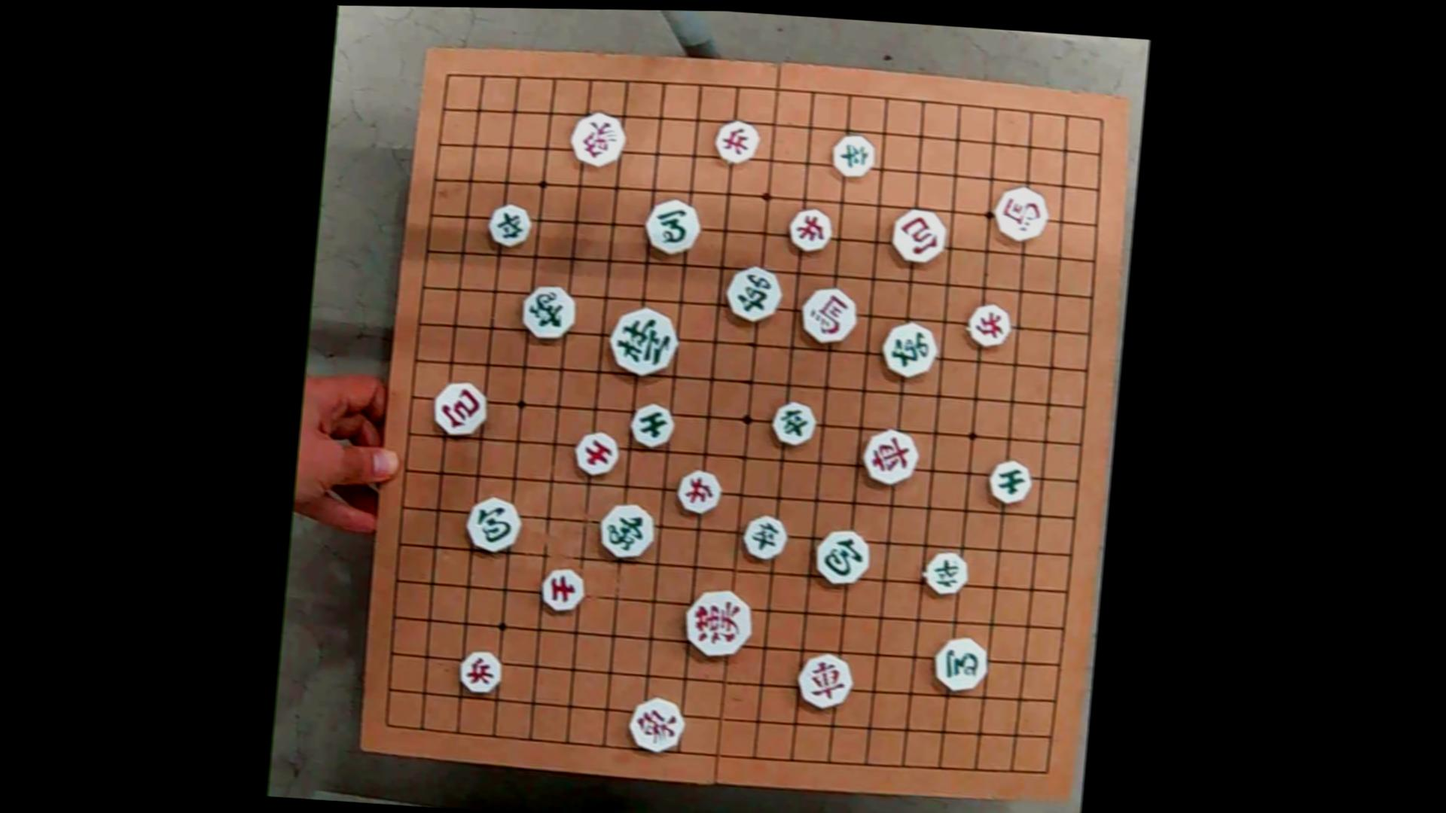cha_green: (877, 321, 937, 379), (725, 265, 781, 324)
cha_red: (795, 653, 853, 709), (862, 430, 916, 487)
jol_green: (742, 513, 786, 564), (923, 549, 969, 597), (770, 399, 816, 446), (484, 202, 531, 248), (830, 132, 874, 180)
jol_red: (673, 467, 722, 516), (712, 118, 762, 166), (789, 206, 832, 255), (966, 303, 1010, 350), (456, 650, 501, 693)
ma_green: (932, 635, 987, 694), (644, 196, 697, 257)
ma_red: (994, 185, 1049, 245), (801, 285, 855, 345)
po_green: (464, 493, 520, 555), (813, 528, 868, 586)
po_red: (891, 205, 947, 266), (430, 377, 487, 436)
sa_green: (630, 400, 675, 450), (988, 458, 1032, 507)
sa_red: (572, 429, 618, 477), (539, 567, 584, 612)
sang_green: (517, 282, 578, 339), (599, 499, 654, 559)
sang_red: (627, 693, 683, 754), (571, 111, 624, 165)
wang_green: (611, 306, 676, 378)
wang_red: (684, 585, 751, 659)
